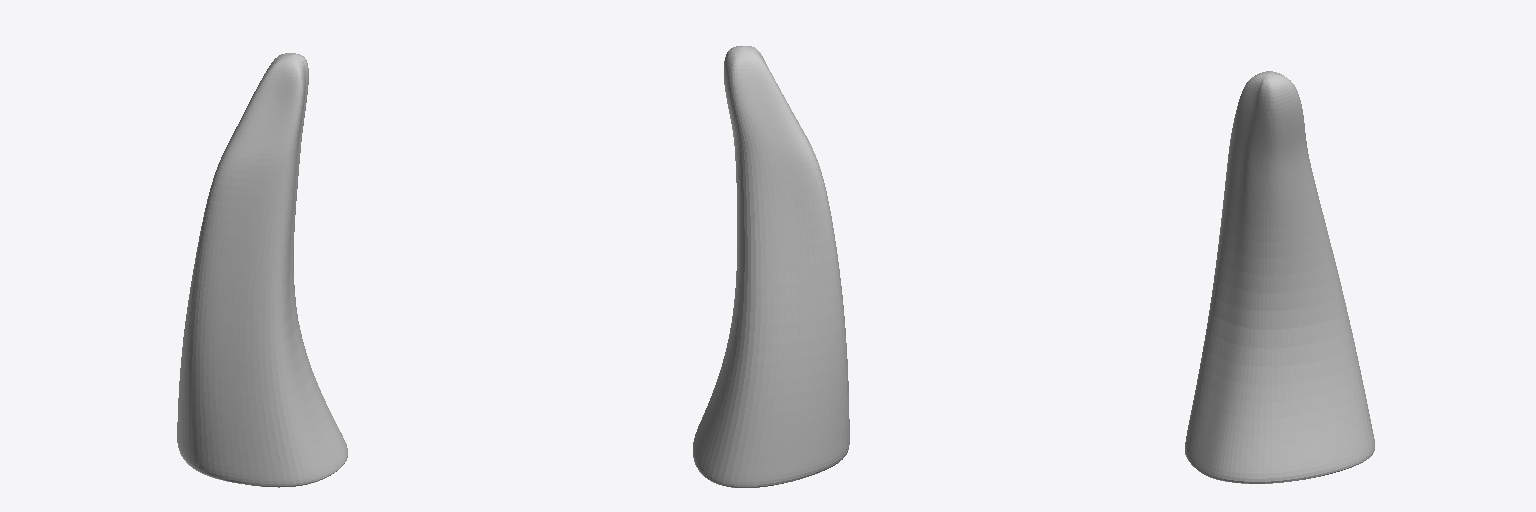
File: corte trans 2.obj
3 renders of one model, left to right at view 1: azimuth 30°, elevation 25°; view 2: azimuth 150°, elevation 25°; view 3: azimuth 270°, elevation 25°, orthographic.
Parts seen in each view (by area): view 1: Cylinder; view 2: Cylinder; view 3: Cylinder.
Boxes of the visible parts, x1,y1,x2,y2 form: Cylinder: [177, 53, 347, 487]; Cylinder: [693, 46, 849, 487]; Cylinder: [1185, 71, 1374, 483].
Bounding box in the file's own units: 0.7242 × 1.92 × 0.8395.